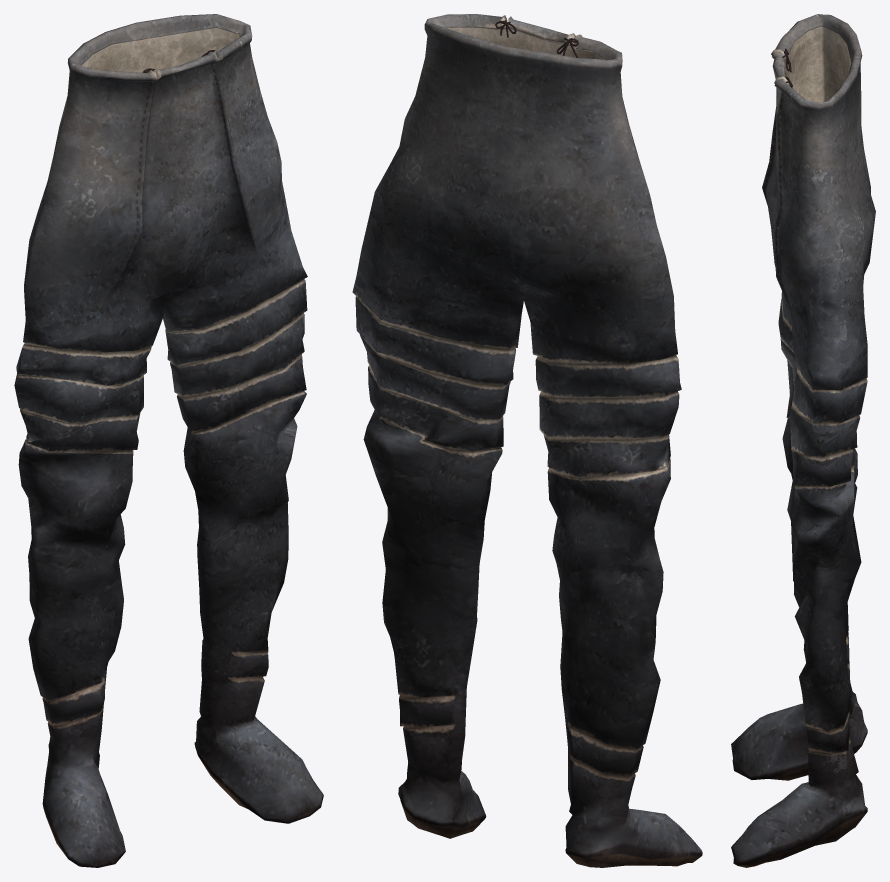
The model's file is bear_pants.fbx.
3 renders of one model, left to right at view 1: azimuth 30°, elevation 25°; view 2: azimuth 150°, elevation 25°; view 3: azimuth 270°, elevation 25°, orthographic. The views are drawn at different scales.
Visible parts, largest first — view 1: bear_pants_normal; view 2: bear_pants_normal; view 3: bear_pants_normal.
Boxes of the visible parts, left/top/right/bottom form: bear_pants_normal: left=14, top=14, right=323, bottom=867; bear_pants_normal: left=352, top=14, right=702, bottom=867; bear_pants_normal: left=731, top=14, right=875, bottom=867.
Size of the model in its own units: 47.01 by 119 by 20.38.
Materials: 1 (1 with a texture image).
